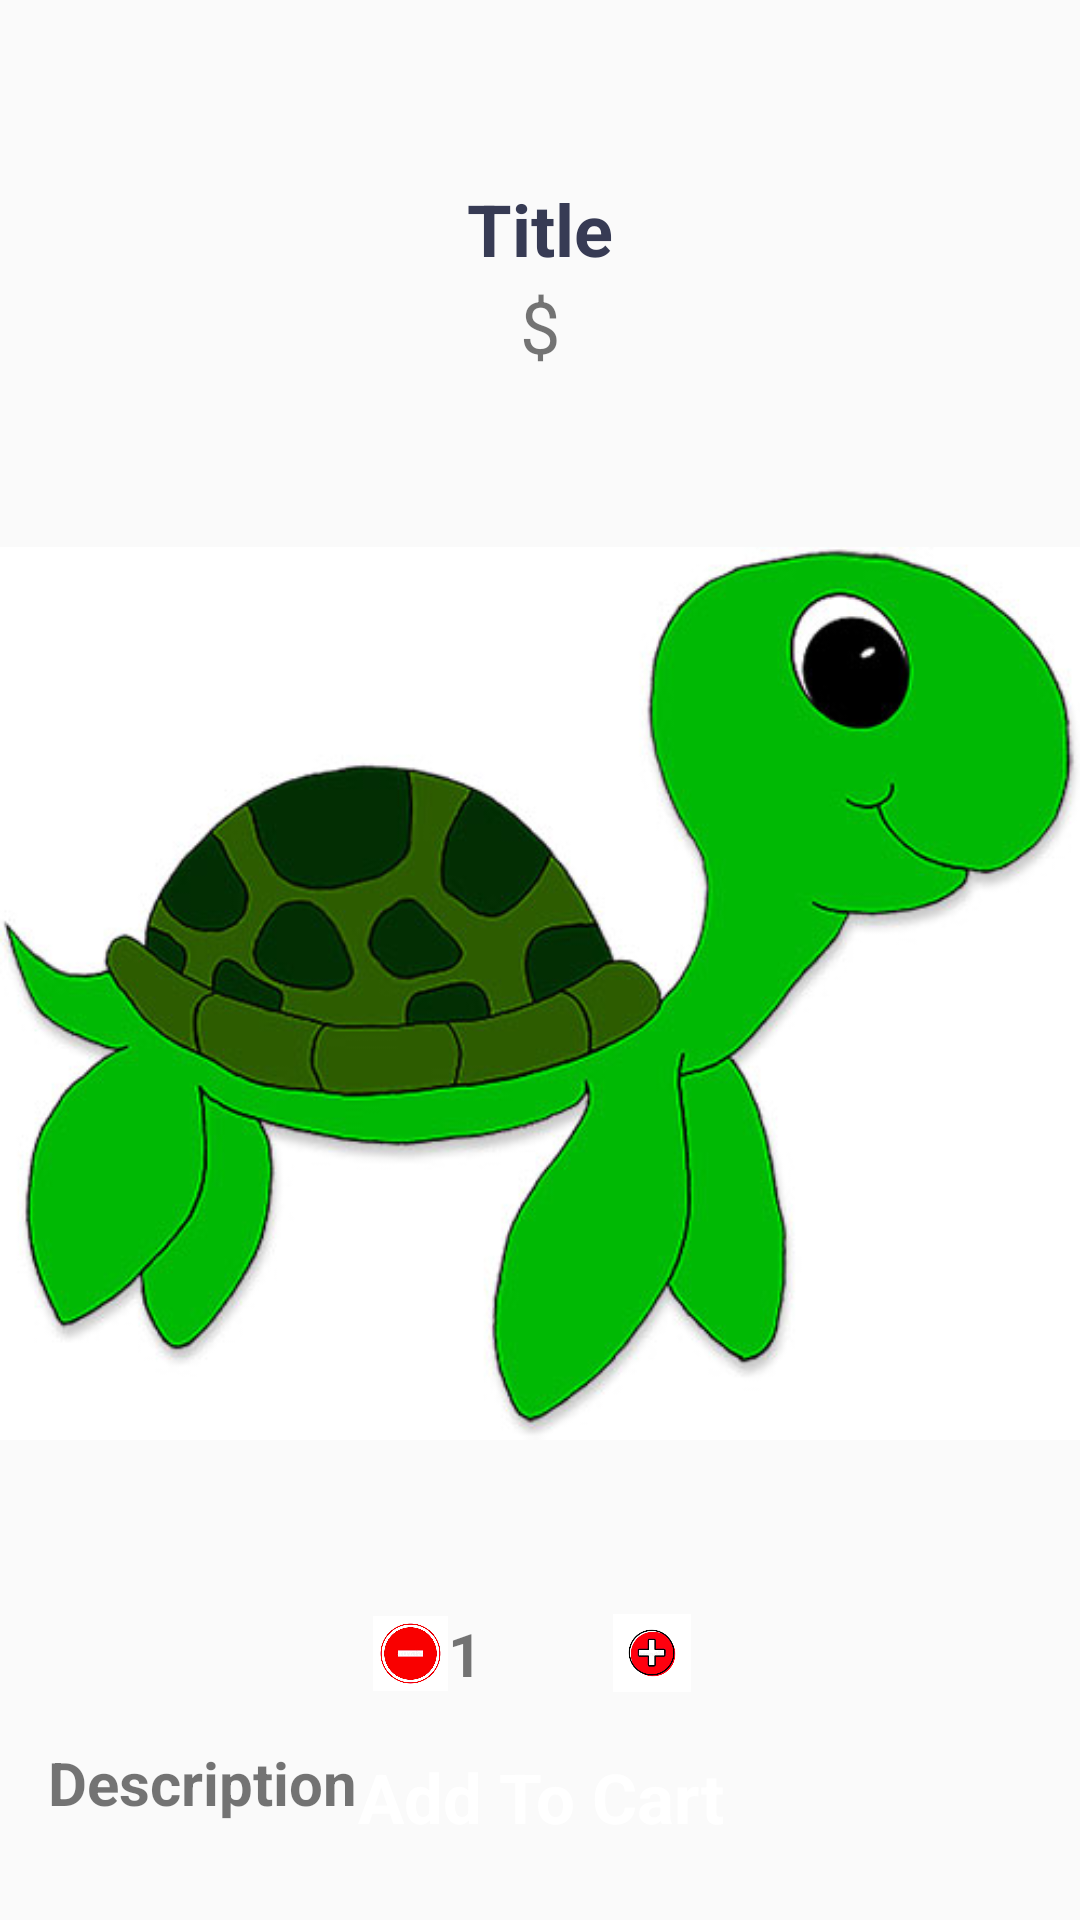

Where icons sit on this 1080 × 1920 app screen, as (x1,y1,x2,y2):
minus: (380,1623,441,1684)
plus: (628,1629,676,1677)
